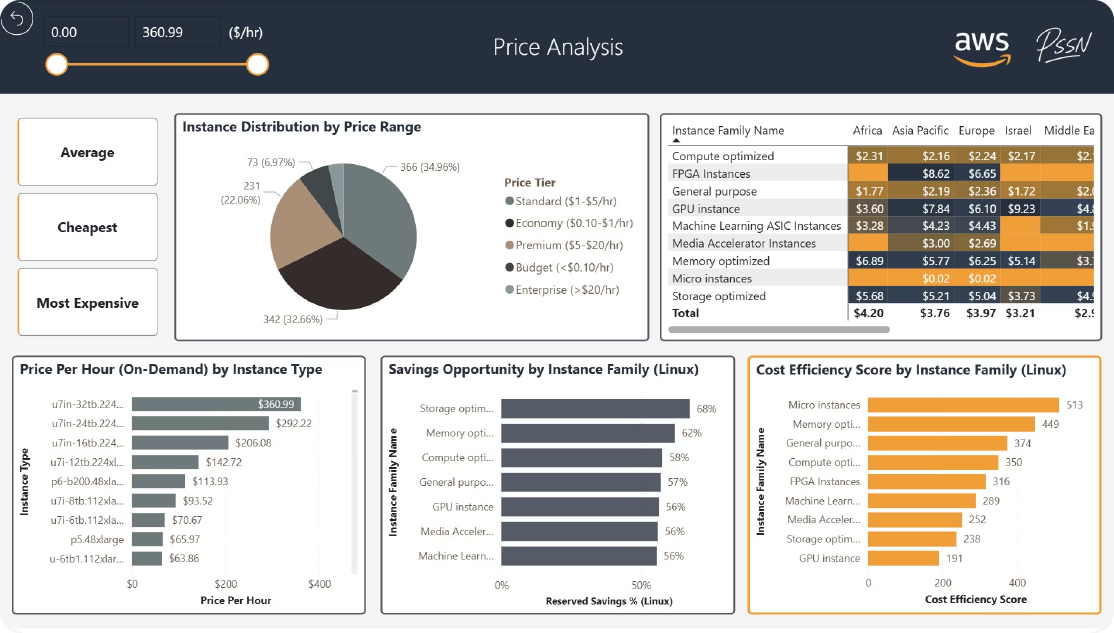

What the dashboard file says about the page in this screenshot:
{"tool":"powerbi","page":{"name":"Instance Pricing Analysis","canvas":[1280,720],"ordinal":1},"visuals":[{"type":"shape","box":[0,0,1280.4,107.7],"z":0},{"type":"textbox","box":[488.8,29.2,301.7,46.3],"z":1000},{"type":"image","box":[1069,16,113.3,76.4],"z":2000},{"type":"image","box":[1166.3,0,104.7,107.1],"z":3000},{"type":"clusteredBarChart","title":"Savings Opportunity by Instance Family (Linux)","fields":{"Category":["Dim_InstanceFamily.instanceFamilyName"],"Y":["Fact_Pricing.Reserved Savings % (Linux)"]},"box":[436.5,407.3,406.3,296.7],"z":4000},{"type":"clusteredBarChart","title":"Cost Efficiency Score by Instance Family (Linux)","fields":{"Category":["Dim_InstanceFamily.instanceFamilyName"],"Y":["Dim_InstanceType.Cost Efficiency Score"]},"box":[856.9,407.3,405.2,296.8],"z":5000},{"type":"pivotTable","fields":{"Rows":["Dim_InstanceFamily.instanceFamilyName"],"Columns":["Dim_Region.locationContinent"],"Values":["Fact_Pricing.Avg Linux Price Per Hour (On-Demand)"]},"box":[756,130.1,506.4,261.4],"z":6000},{"type":"advancedSlicerVisual","title":"EC2 Instance Types (Linux On-Demand)","fields":{"Values":["ChartSelector.ChartType"]},"box":[15.2,130.1,171.1,261.4],"z":7000},{"type":"clusteredBarChart","title":"Price Per Hour (On-Demand) by Instance Type","fields":{"Category":["Dim_InstanceType.instanceType"],"Y":["Fact_Pricing.Avg Linux Price Per Hour (On-Demand)"]},"box":[14.1,407.3,405.3,296.7],"z":8000},{"type":"slicer","title":"($/hr)","fields":{"Values":["Fact_Pricing.onDemandLinuxHr"]},"box":[37.3,9.4,279.6,83.5],"z":9000},{"type":"textbox","box":[257.7,20.3,69.2,35.2],"z":10000},{"type":"actionButton","box":[1.2,2.3,37.5,38.7],"z":11000},{"type":"pieChart","title":"Instance Distribution by Price Range","fields":{"Y":["Dim_InstanceType.Total Instance Types"],"Category":["Dim_InstanceType.Price Tier"]},"box":[200.4,130.1,543.9,261.4],"z":12000}]}

Visuals, with their boxes in screenshot pixels (x1, y1, x2, y2), scaled from the page's 1280x720 canvas onto the 1114x633 screenshot:
shape: [0,0,1113,95]
textbox: [425,26,688,66]
image: [930,14,1029,81]
image: [1015,0,1106,94]
"Savings Opportunity by Instance Family (Linux)" clusteredBarChart: [380,358,733,619]
"Cost Efficiency Score by Instance Family (Linux)" clusteredBarChart: [746,358,1098,619]
pivotTable - Dim_InstanceFamily.instanceFamilyName x Dim_Region.locationContinent: [658,114,1099,344]
"EC2 Instance Types (Linux On-Demand)" advancedSlicerVisual: [13,114,162,344]
"Price Per Hour (On-Demand) by Instance Type" clusteredBarChart: [12,358,365,619]
"($/hr)" slicer: [32,8,276,82]
textbox: [224,18,285,49]
actionButton: [1,2,34,36]
"Instance Distribution by Price Range" pieChart: [174,114,648,344]
